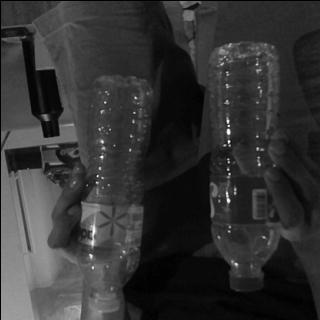plastic_bottles: (208, 36, 282, 290), (80, 77, 148, 316)
